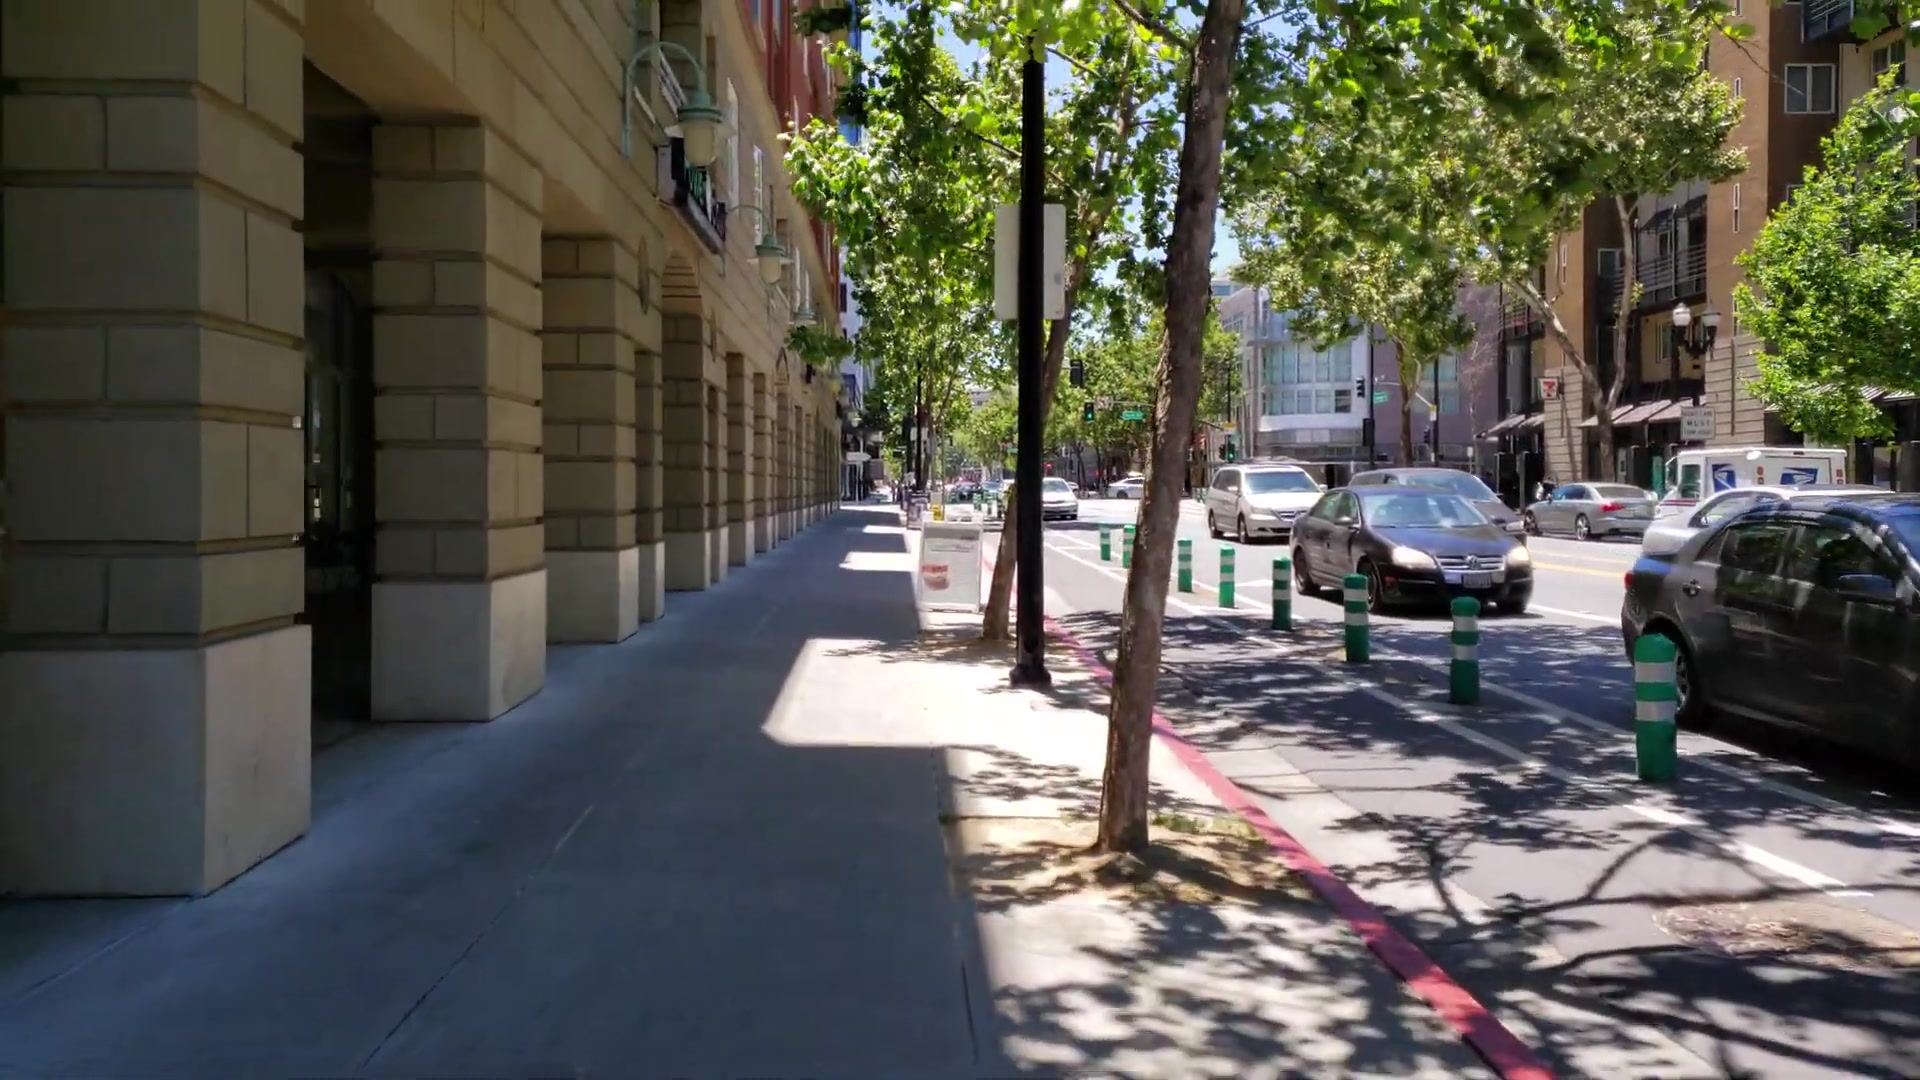vehicle: (1288, 491, 1534, 611), (1207, 465, 1329, 545), (1527, 475, 1654, 542)
